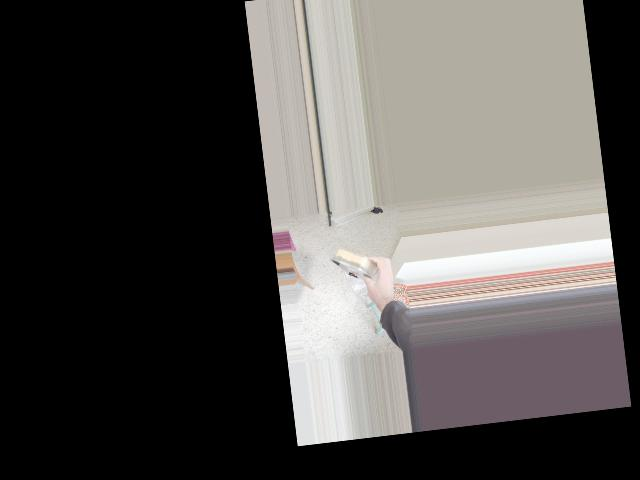cheese: (325, 231, 403, 296)
